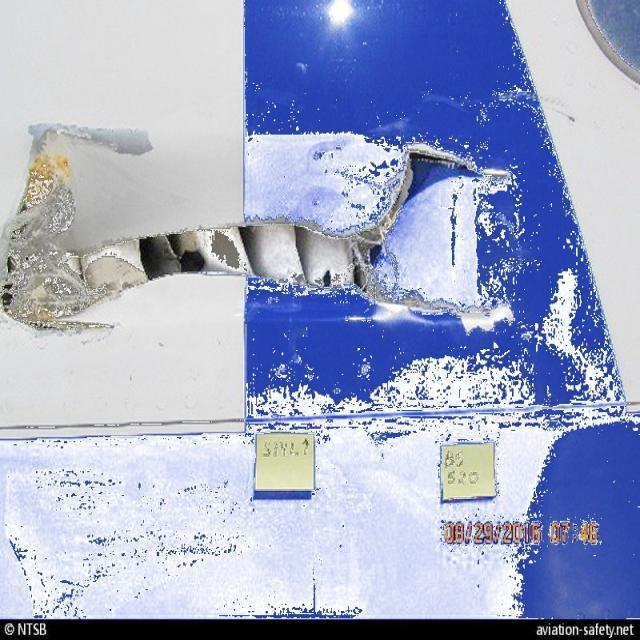crack: (392, 281, 504, 343)
